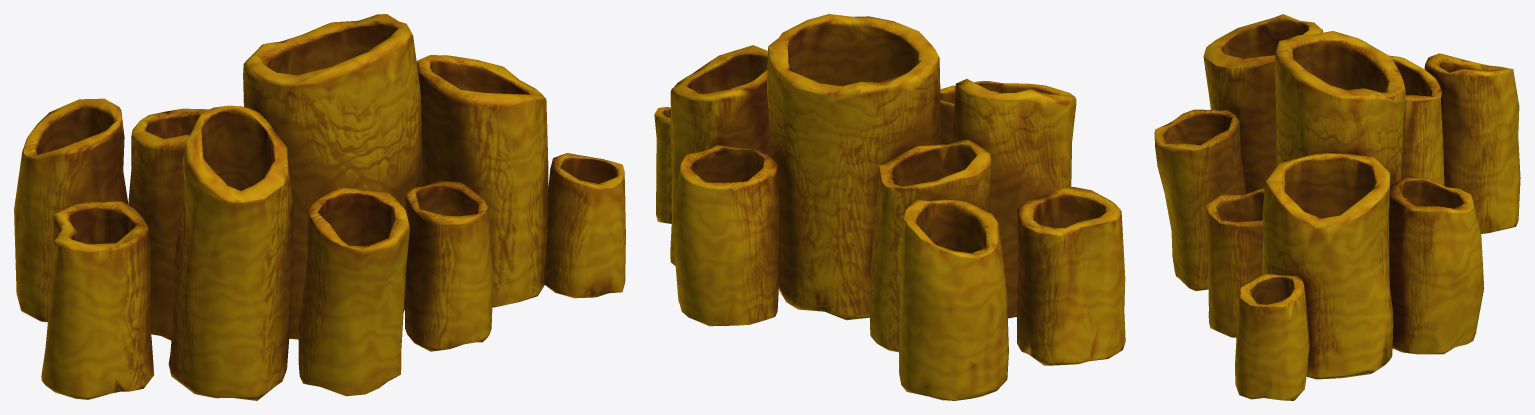
File: SM_Coral_Golden.fbx
The picture shows the model from 3 angles, left to right: view 1: azimuth 30°, elevation 25°; view 2: azimuth 150°, elevation 25°; view 3: azimuth 270°, elevation 25°; orthographic projection. The views are drawn at different scales.
Visible parts, largest first — view 1: SM_Coral_Golden_LOD0; view 2: SM_Coral_Golden_LOD0; view 3: SM_Coral_Golden_LOD0.
Part boxes in pixels (<box>): SM_Coral_Golden_LOD0: <box>14,14,625,400</box>; SM_Coral_Golden_LOD0: <box>654,14,1125,400</box>; SM_Coral_Golden_LOD0: <box>1154,14,1520,400</box>.
Bounding box in the file's own units: 86.87 × 57.73 × 44.09.
